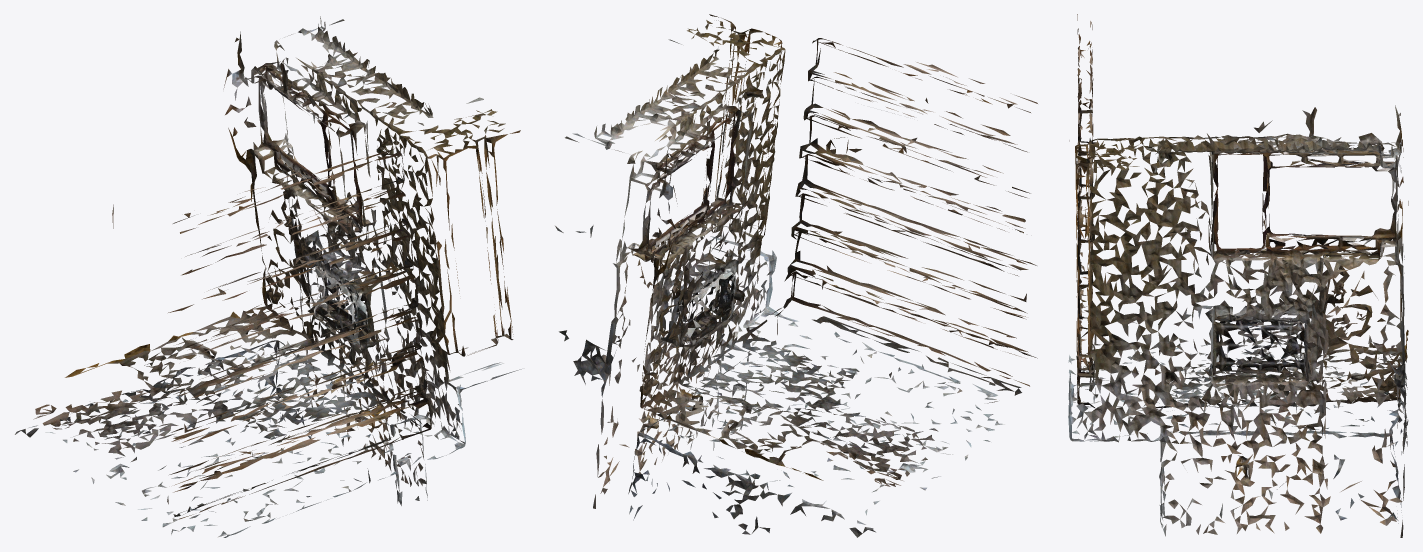
3 renders of one model, left to right at view 1: azimuth 30°, elevation 25°; view 2: azimuth 150°, elevation 25°; view 3: azimuth 270°, elevation 25°, orthographic. The views are drawn at different scales.
Bounding box in the file's own units: 6.41 × 7.09 × 5.43.
1 material, 1 textured.
